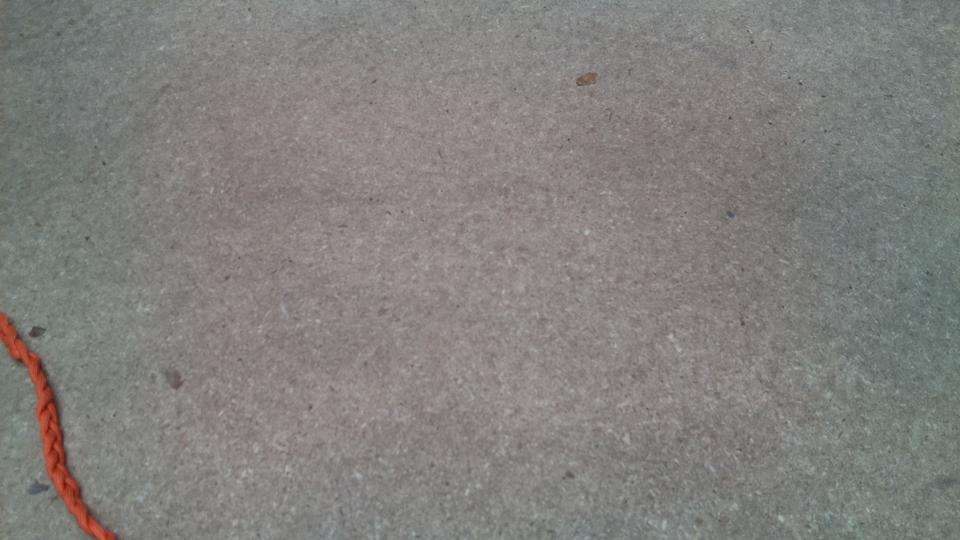rope: (1, 319, 115, 540)
